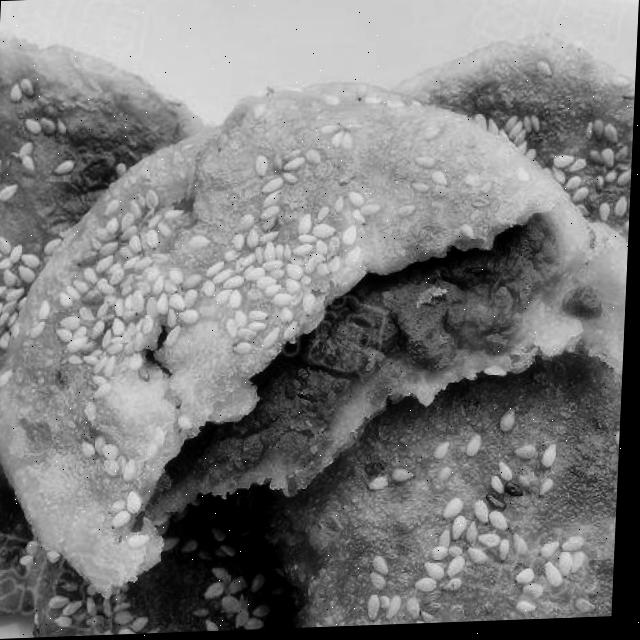炸货点心: (0, 4, 639, 626)
蛋糕甜品: (0, 4, 639, 626)
